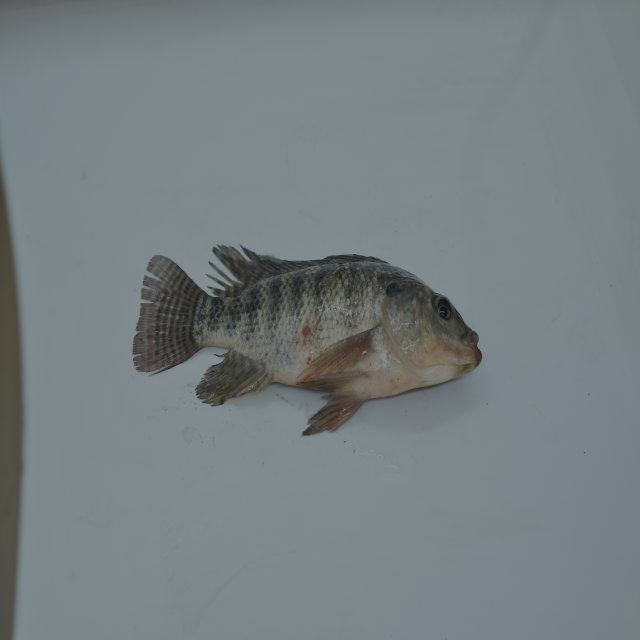Columnaris Disease: (129, 237, 484, 447)
